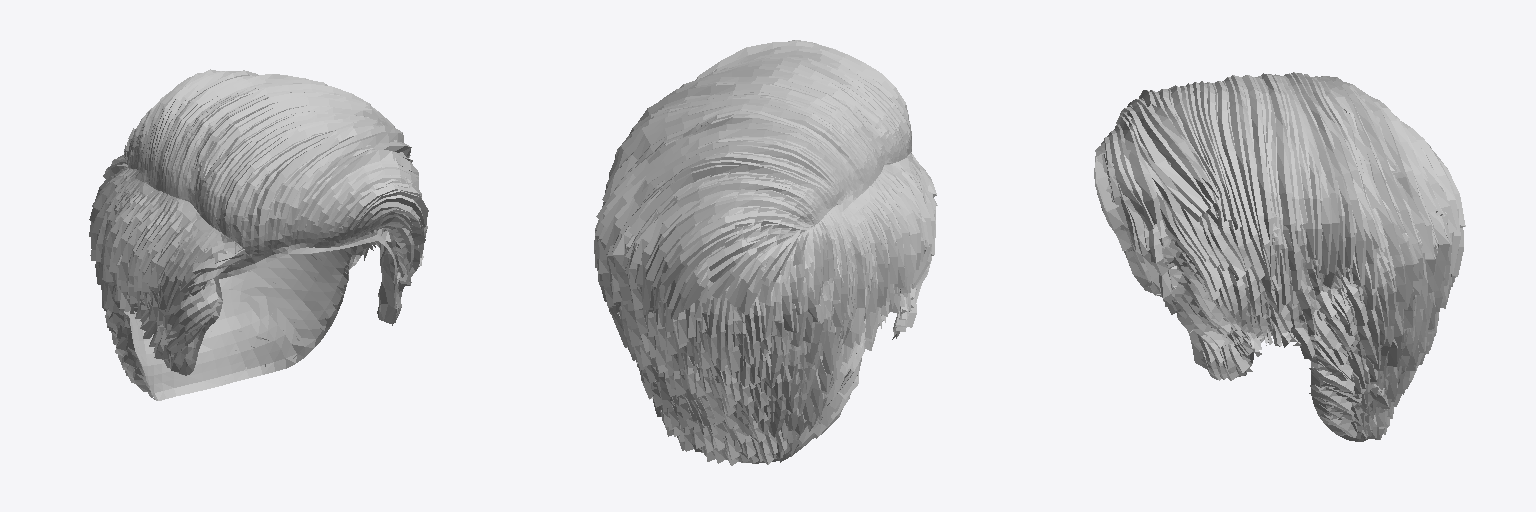
Rendered from Hairstyle 25.obj.
The picture shows the model from 3 angles: view 1: azimuth 30°, elevation 25°; view 2: azimuth 150°, elevation 25°; view 3: azimuth 270°, elevation 25°; orthographic projection.
Parts seen in each view (by area): view 1: Hairstyle_25; view 2: Hairstyle_25; view 3: Hairstyle_25.
Boxes of the visible parts, box(x1,y1,x2,y2) form: Hairstyle_25: box(89, 69, 428, 400); Hairstyle_25: box(594, 40, 937, 465); Hairstyle_25: box(1094, 72, 1465, 441).
Bounding box in the file's own units: 20.64 × 23.69 × 23.67.